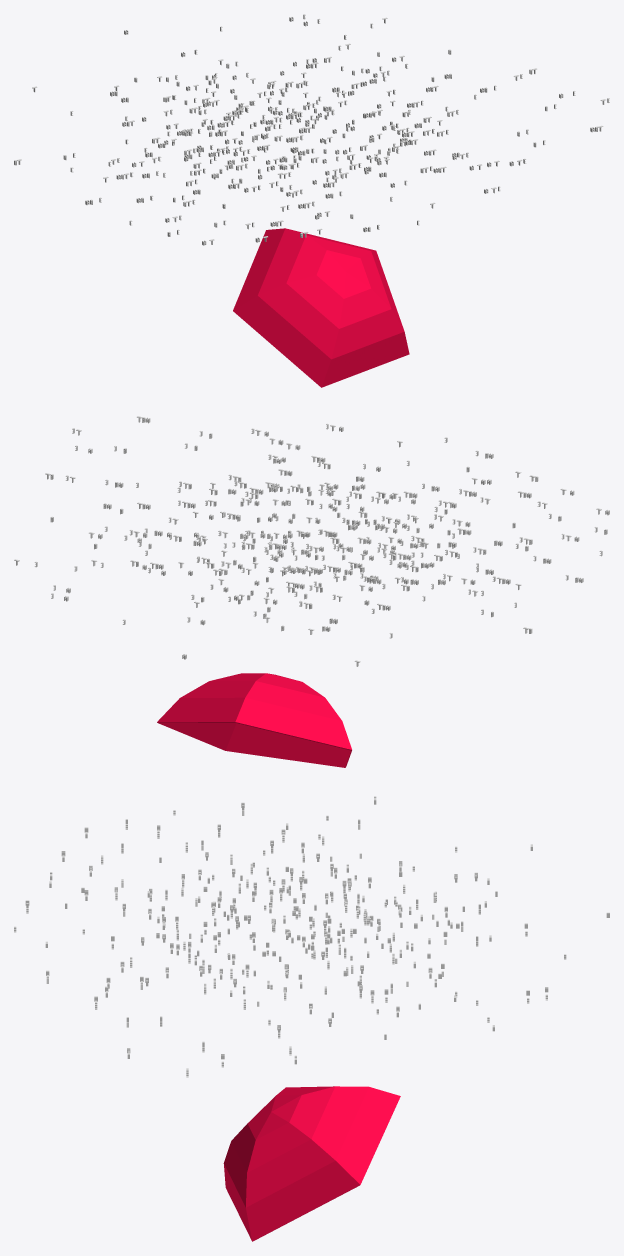
Rendered from rain.gltf.
3 renders of one model, top to bottom at view 1: azimuth 30°, elevation 25°; view 2: azimuth 150°, elevation 25°; view 3: azimuth 270°, elevation 25°, orthographic. The views are drawn at different scales.
Parts seen in each view (by area): view 1: Sphere.001; view 2: Sphere.001; view 3: Sphere.001.
Part boxes in pixels (x1,y1,x2,y2): Sphere.001: [233, 228, 409, 387]; Sphere.001: [157, 673, 351, 767]; Sphere.001: [223, 1086, 400, 1241].
Size of the model in its own units: 5.34 by 2.36 by 4.87.
